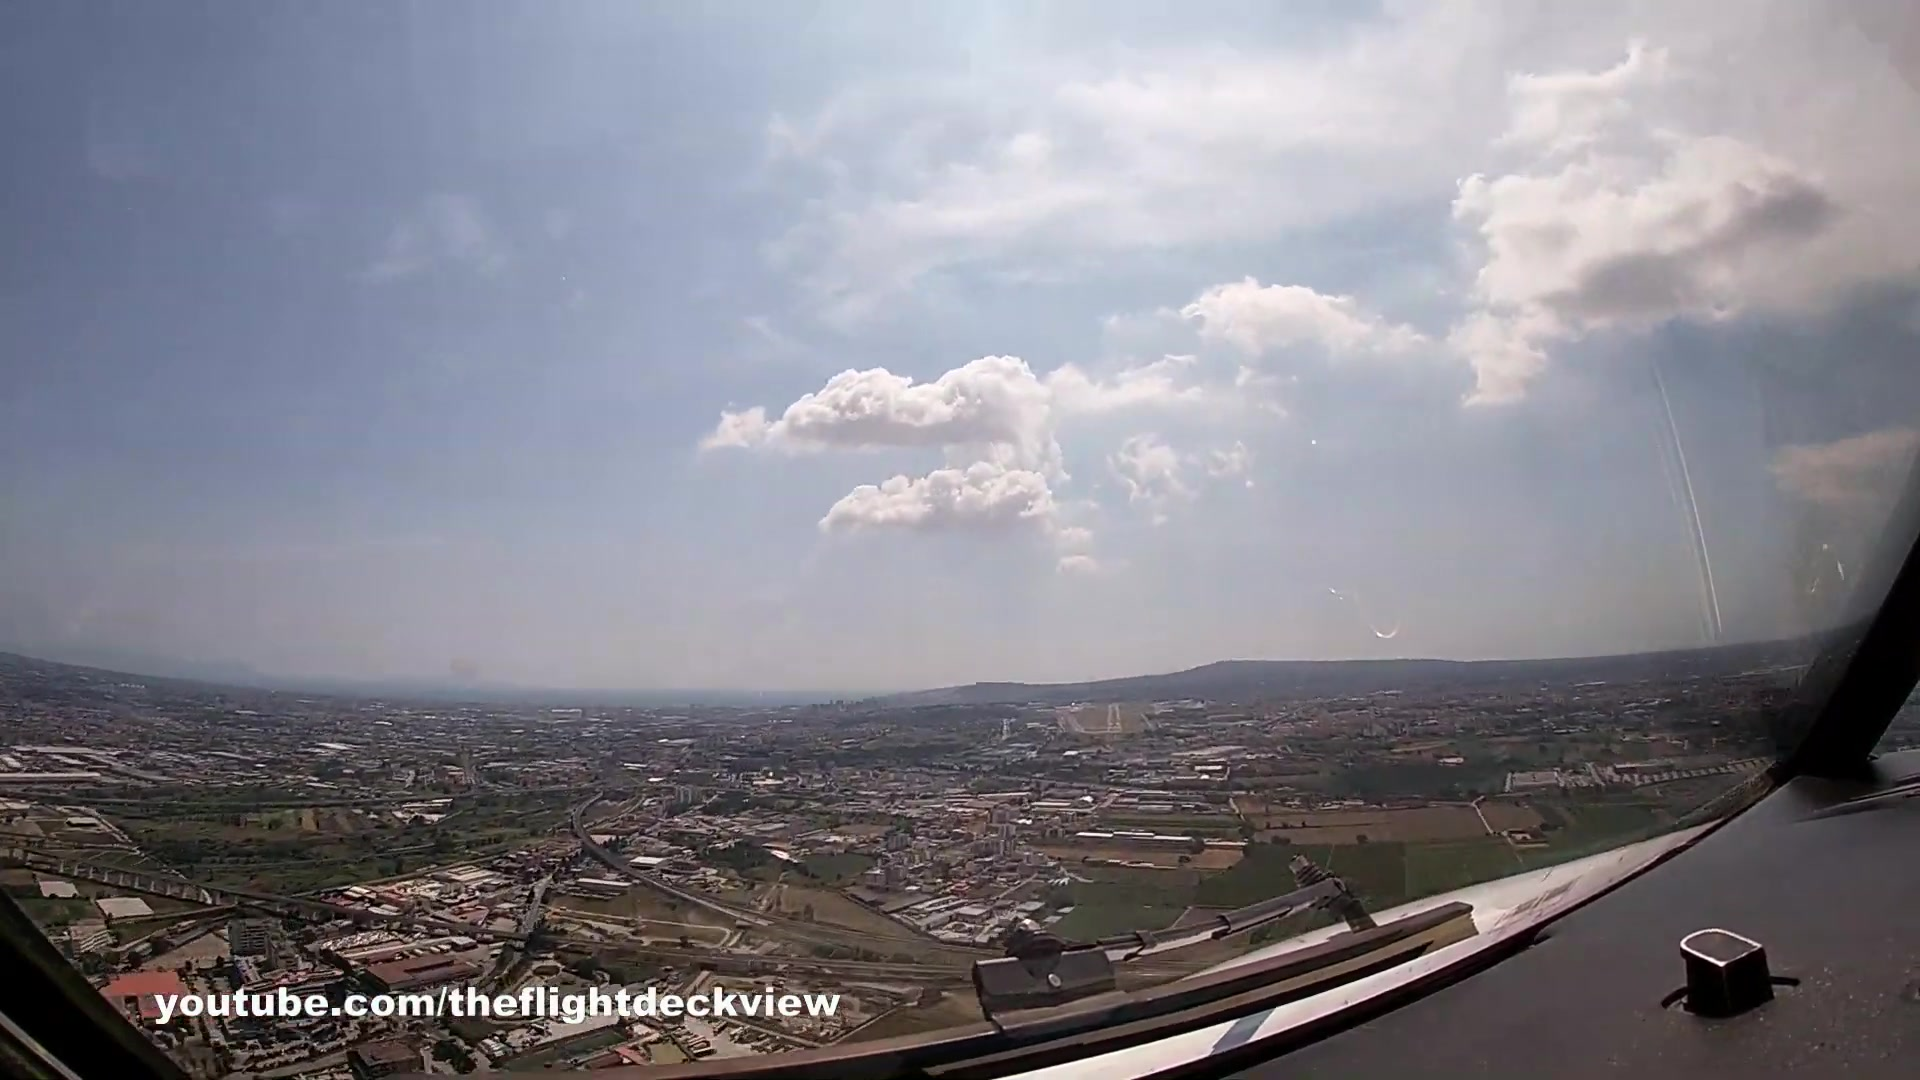runway: (1102, 703, 1124, 735)
